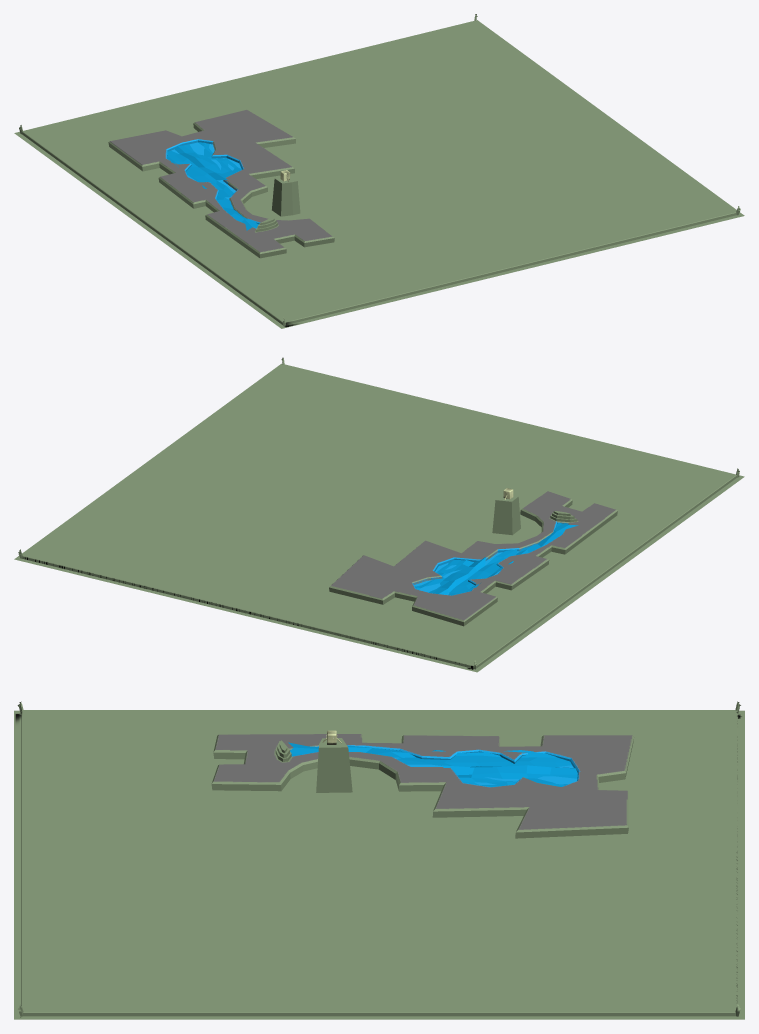
File: pijaoQuindio.glb
3 renders of one model, top to bottom at view 1: azimuth 30°, elevation 25°; view 2: azimuth 150°, elevation 25°; view 3: azimuth 270°, elevation 25°, orthographic. The views are drawn at different scales.
Visible parts, largest first — view 1: Plane, Plane.001; view 2: Plane, Plane.001; view 3: Plane, Plane.001.
Boxes of the visible parts, x1=… form: Plane: x1=14, y1=14, x2=744, y2=328; Plane.001: x1=167, y1=142, x2=258, y2=230; Plane: x1=14, y1=357, x2=744, y2=672; Plane.001: x1=415, y1=522, x2=578, y2=595; Plane: x1=14, y1=701, x2=744, y2=1019; Plane.001: x1=288, y1=742, x2=577, y2=787.
Size of what is drawn, in the model's own units: 99.91 by 8.8 by 99.91.
3 materials, 2 textured.
